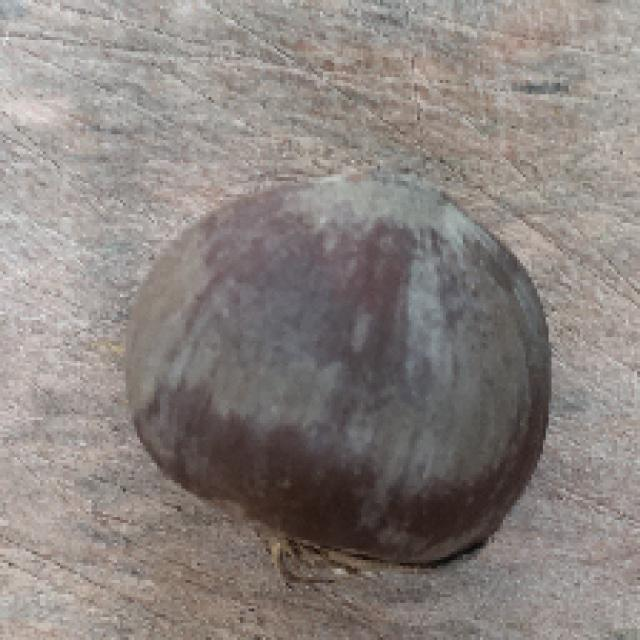damagedHazelnut: (110, 170, 553, 592)
